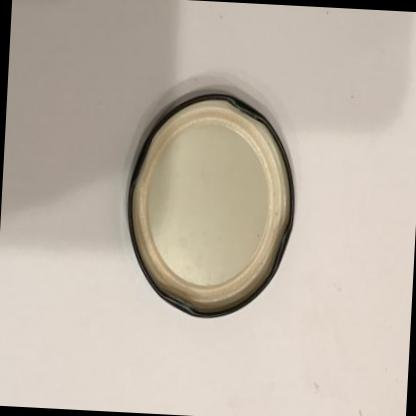Metal: (126, 93, 293, 317)
